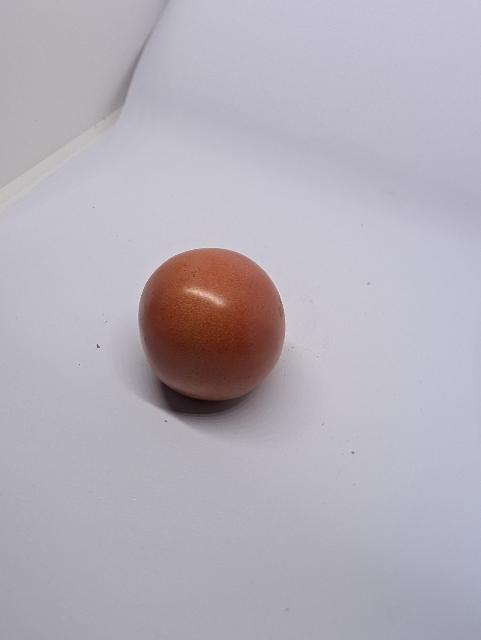red: (136, 244, 295, 408)
